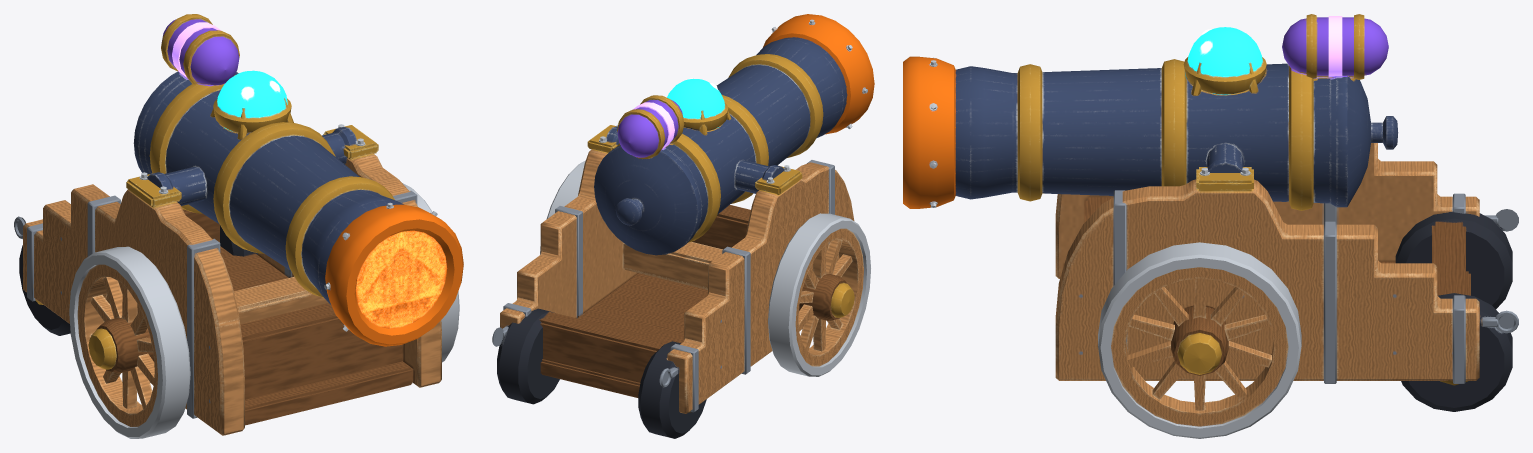
The model's file is Wrecker_v2.glb.
3 renders of one model, left to right at view 1: azimuth 30°, elevation 25°; view 2: azimuth 150°, elevation 25°; view 3: azimuth 270°, elevation 25°, orthographic. The views are drawn at different scales.
Parts seen in each view (by area): view 1: Carriage, Barrel, Wheel_FR, Slot_Booster, Slot_Module, Slot_Core, Wheel_FL, Wheel_RR; view 2: Carriage, Barrel, Wheel_FR, Slot_Booster, Wheel_RL, Wheel_RR, Slot_Module, Slot_Core, Wheel_FL; view 3: Carriage, Barrel, Wheel_FL, Slot_Booster, Slot_Module, Wheel_RR, Wheel_RL, Slot_Core.
Boxes of the visible parts, <box> form: Carriage: <box>14,124,441,435</box>; Barrel: <box>133,71,403,305</box>; Wheel_FR: <box>69,246,190,438</box>; Slot_Booster: <box>324,202,463,346</box>; Slot_Module: <box>161,14,239,85</box>; Slot_Core: <box>210,70,293,139</box>; Wheel_FL: <box>402,183,459,362</box>; Wheel_RR: <box>19,245,70,335</box>; Carriage: <box>492,124,854,413</box>; Barrel: <box>594,37,846,255</box>; Wheel_FR: <box>768,213,870,376</box>; Slot_Booster: <box>763,14,874,134</box>; Wheel_RL: <box>497,308,559,404</box>; Wheel_RR: <box>638,341,706,438</box>; Slot_Module: <box>617,95,684,158</box>; Slot_Core: <box>667,78,731,135</box>; Wheel_FL: <box>540,160,585,254</box>; Carriage: <box>1055,143,1518,383</box>; Barrel: <box>955,59,1398,210</box>; Wheel_FL: <box>1098,242,1301,438</box>; Slot_Booster: <box>903,56,955,208</box>; Slot_Module: <box>1282,14,1388,79</box>; Wheel_RR: <box>1395,211,1512,308</box>; Wheel_RL: <box>1401,293,1512,411</box>; Slot_Core: <box>1183,27,1266,95</box>.
Size of what is drawn, in the model's own units: 2.44 by 2.25 by 3.63.
2 materials, 2 textured.
